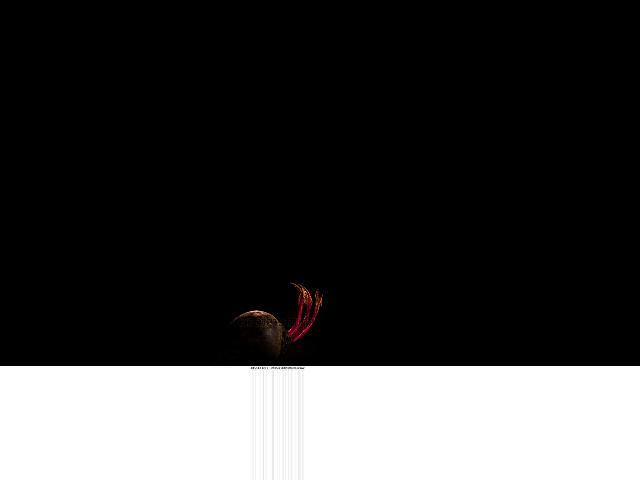beet: (210, 282, 322, 365)
